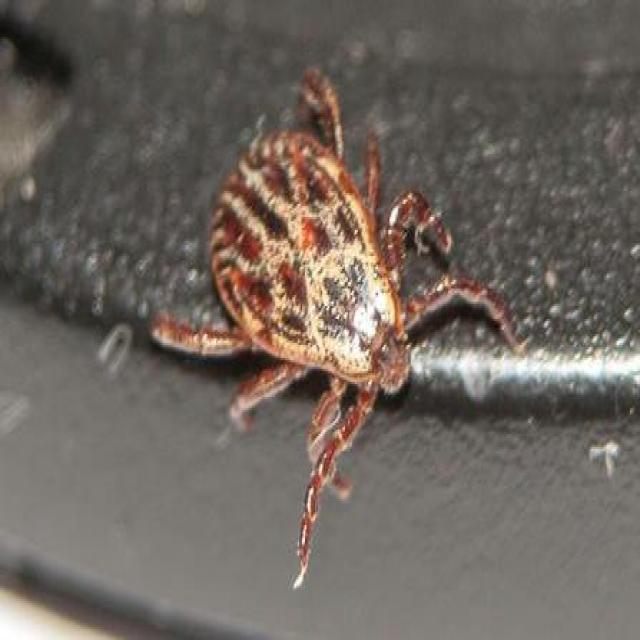Dermacentor Reticulatus-M: (149, 65, 521, 586)
